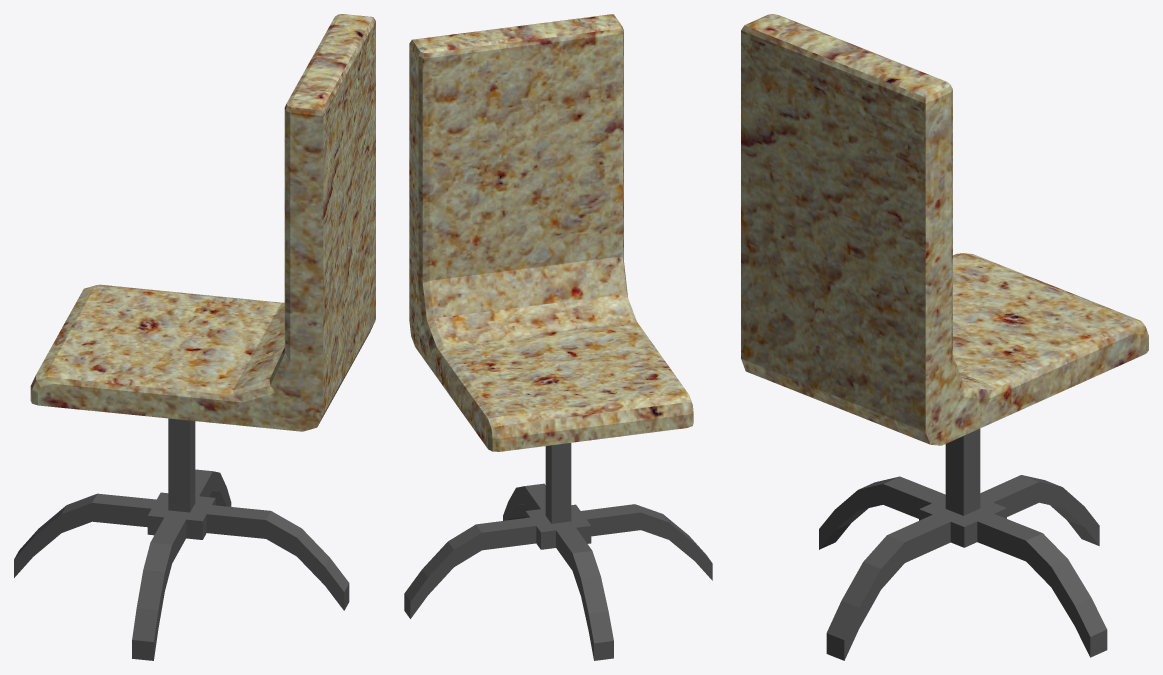
Rendered from chair.glb.
The picture shows the model from 3 angles, left to right: view 1: azimuth 30°, elevation 25°; view 2: azimuth 150°, elevation 25°; view 3: azimuth 270°, elevation 25°; orthographic projection. The views are drawn at different scales.
Parts seen in each view (by area): view 1: chair-col; view 2: chair-col; view 3: chair-col.
Boxes of the visible parts, x1=… form: chair-col: x1=14, y1=14, x2=375, y2=660; chair-col: x1=404, y1=14, x2=712, y2=660; chair-col: x1=741, y1=14, x2=1148, y2=660.
Size of the model in its own units: 0.802 by 1.29 by 0.7952.
Materials: 2 (1 with a texture image).
